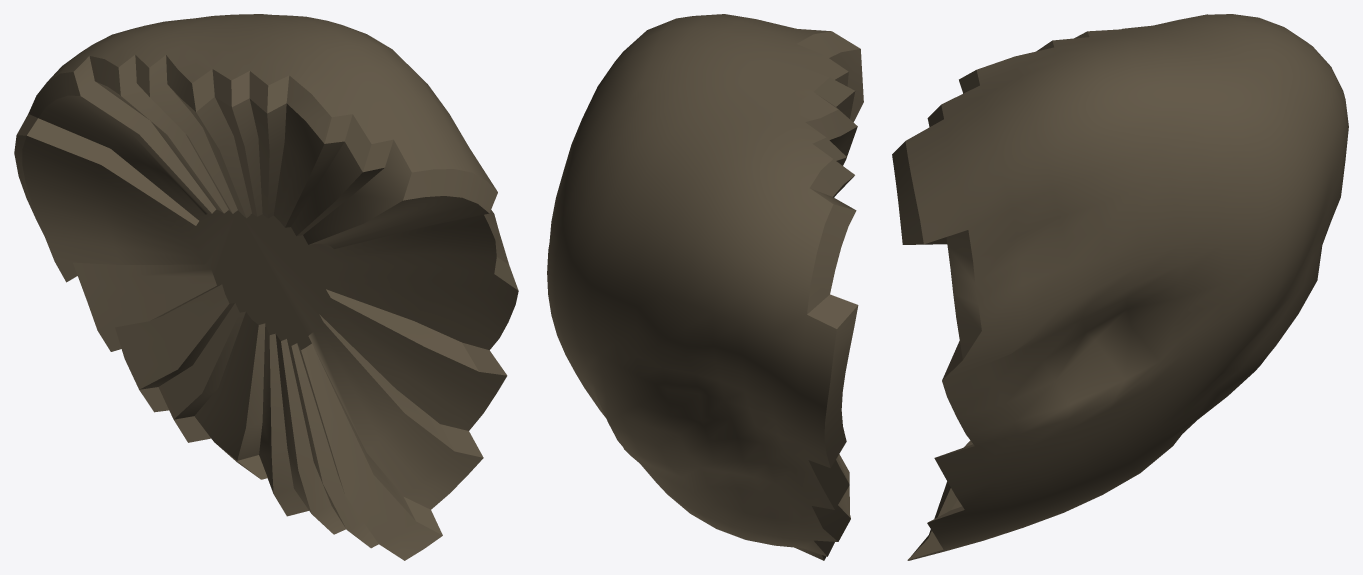
File: DestroyedAsteroid2.fbx
3 views of the same model, side by side, from view 1: azimuth 30°, elevation 25°; view 2: azimuth 150°, elevation 25°; view 3: azimuth 270°, elevation 25° (orthographic). The views are drawn at different scales.
Visible parts, largest first — view 1: DestroyedAsteroid3; view 2: DestroyedAsteroid3; view 3: DestroyedAsteroid3.
Part boxes in pixels (x1,y1,x2,y2): DestroyedAsteroid3: (14, 14, 518, 560); DestroyedAsteroid3: (547, 14, 863, 560); DestroyedAsteroid3: (892, 14, 1348, 560).
Size of the model in its own units: 153 by 201 by 166.
